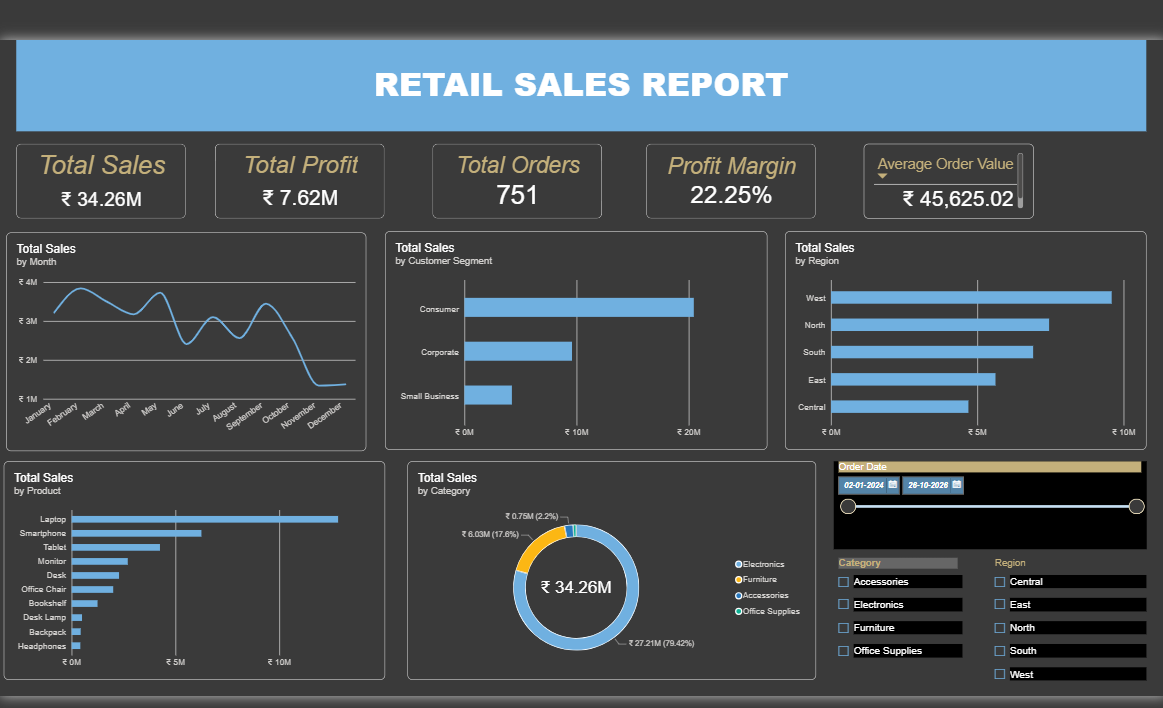

The page's visual inventory and layout, read from the dashboard file:
{"tool":"powerbi","page":{"name":"Page 1","canvas":[1920,1080],"ordinal":0},"visuals":[{"type":"cardVisual","fields":{"Data":["Sales Data.Total Sales"]},"box":[26.8,170.8,279.9,123.5],"z":0},{"type":"cardVisual","fields":{"Data":["Sales Data.Total Profit"]},"box":[354,170.8,279.9,123.5],"z":1000},{"type":"cardVisual","fields":{"Data":["Sales Data.Total Orders"]},"box":[712.2,170.8,279.9,123.5],"z":2000},{"type":"cardVisual","fields":{"Data":["Sales Data.Profit Margin"]},"box":[1064.2,170.8,279.9,123.5],"z":3000},{"type":"tableEx","fields":{"Values":["Sales Data.Average Order Value"]},"box":[1426.4,170.8,279.9,123.5],"z":4000},{"type":"lineChart","fields":{"Category":["Sales Data.Order Date"],"Y":["Sales Data.Total Sales"]},"box":[10.3,317,592.8,360.2],"z":5000},{"type":"donutChart","fields":{"Category":["Sales Data.Category"],"Y":["Sales Data.Total Sales"]},"box":[671,693.7,673.1,360.2],"z":6000},{"type":"clusteredBarChart","fields":{"Category":["Sales Data.Region"],"Y":["Sales Data.Total Sales"]},"box":[1292.6,317,594.9,360.2],"z":7000},{"type":"clusteredBarChart","fields":{"Category":["Sales Data.Product"],"Y":["Sales Data.Total Sales"]},"box":[6.2,693.7,627.8,360.2],"z":8000},{"type":"clusteredBarChart","fields":{"Category":["Sales Data.Customer Segment"],"Y":["Sales Data.Total Sales"]},"box":[634,314.9,629.8,360.2],"z":9000},{"type":"slicer","fields":{"Values":["Sales Data.Order Date"]},"box":[1372.9,693.7,514.6,109.1],"z":10000},{"type":"slicer","fields":{"Values":["Sales Data.Region"]},"box":[1630.2,827.4,257.3,222.3],"z":11000},{"type":"slicer","fields":{"Values":["Sales Data.Category"]},"box":[1372.9,827.4,212,201.7],"z":12000},{"type":"textbox","box":[26.8,0,1860.7,150.3],"z":13000}]}

Visuals, with their boxes on the page's 1920x1080 design canvas (x1, y1, x2, y2). These are canvas units, not pixel positions in the 1163x708 screenshot, which may show the page scaled, cropped or inside an application window:
cardVisual - Sales Data.Total Sales: crop(27, 171, 307, 294)
cardVisual - Sales Data.Total Profit: crop(354, 171, 634, 294)
cardVisual - Sales Data.Total Orders: crop(712, 171, 992, 294)
cardVisual - Sales Data.Profit Margin: crop(1064, 171, 1344, 294)
tableEx - Sales Data.Average Order Value: crop(1426, 171, 1706, 294)
lineChart - Sales Data.Order Date x Sales Data.Total Sales: crop(10, 317, 603, 677)
donutChart - Sales Data.Category x Sales Data.Total Sales: crop(671, 694, 1344, 1054)
clusteredBarChart - Sales Data.Region x Sales Data.Total Sales: crop(1293, 317, 1888, 677)
clusteredBarChart - Sales Data.Product x Sales Data.Total Sales: crop(6, 694, 634, 1054)
clusteredBarChart - Sales Data.Customer Segment x Sales Data.Total Sales: crop(634, 315, 1264, 675)
slicer - Sales Data.Order Date: crop(1373, 694, 1888, 803)
slicer - Sales Data.Region: crop(1630, 827, 1888, 1050)
slicer - Sales Data.Category: crop(1373, 827, 1585, 1029)
textbox: crop(27, 0, 1888, 150)
